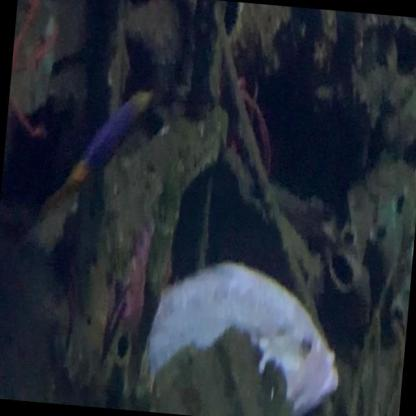fish: (138, 252, 348, 416), (36, 76, 154, 232)
